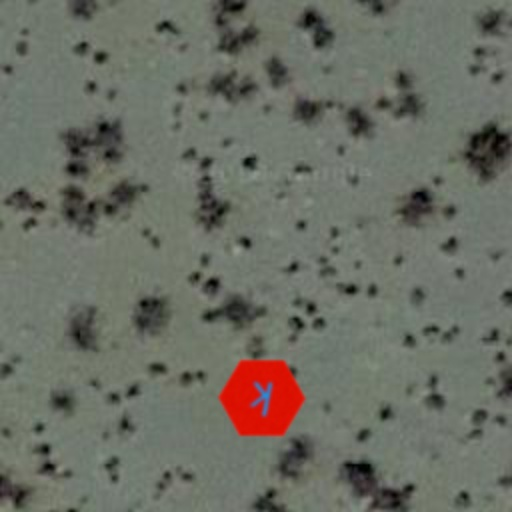hexagon: (216, 352, 308, 444)
